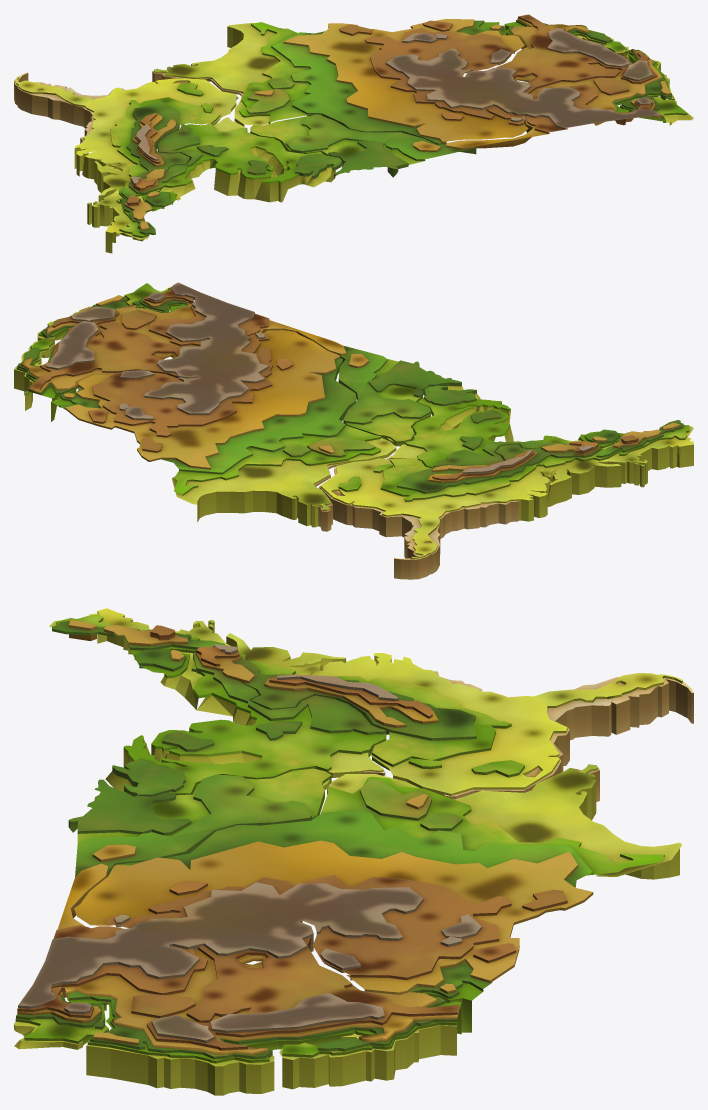
The model's file is test_ground_texture.fbx.
3 views of the same model, one above another, from view 1: azimuth 30°, elevation 25°; view 2: azimuth 150°, elevation 25°; view 3: azimuth 270°, elevation 25° (orthographic). The views are drawn at different scales.
Visible parts, largest first — view 1: ground_A, ground_C, ground_D, ground_B, ground_E, ground_F; view 2: ground_A, ground_C, ground_D, ground_B, ground_E, ground_F; view 3: ground_A, ground_C, ground_D, ground_B, ground_E, ground_F.
Part boxes in pixels (box(x1,y1,x2,y2)): ground_A: box(14, 23, 693, 253); ground_C: box(120, 20, 671, 234); ground_D: box(124, 18, 671, 230); ground_B: box(110, 22, 687, 241); ground_E: box(127, 14, 662, 205); ground_F: box(131, 28, 660, 184); ground_A: box(14, 285, 693, 579); ground_C: box(17, 287, 683, 493); ground_D: box(20, 288, 680, 482); ground_B: box(16, 283, 689, 502); ground_E: box(29, 286, 638, 480); ground_F: box(45, 282, 593, 473); ground_A: box(14, 608, 693, 1095); ground_C: box(16, 620, 592, 1059); ground_D: box(17, 619, 593, 1055); ground_B: box(15, 614, 664, 1063); ground_E: box(17, 625, 567, 1050); ground_F: box(18, 644, 481, 1042).
Size of the model in its own units: 190570 by 8868 by 119566.
